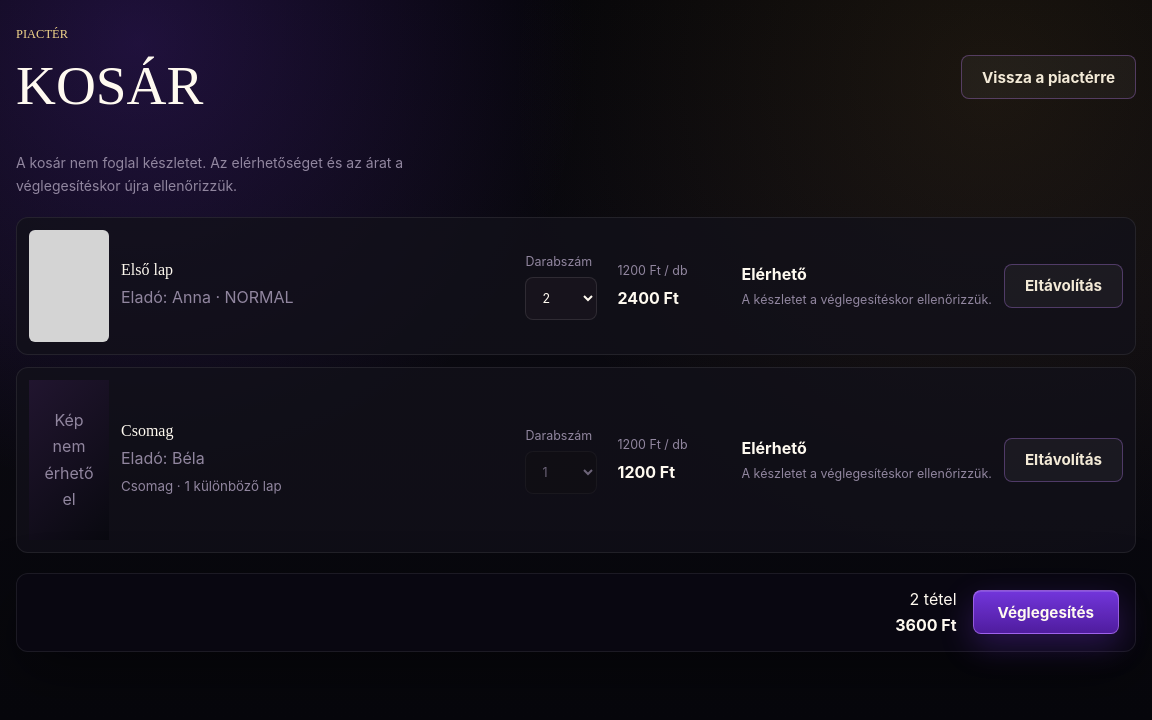
Test case: CartPage › jelzi, hogy nincs foglalás, és mutatja a csomagot valamint az eladónkénti előnézetet
The image size is (1152, 720).
Expected: the heading "Kosár" is shown, [16,57,203,115]
Expected: the text "A kosár nem foglal készletet" is shown, [16,154,403,194]
Click the button "Véglegesítés" at coordinates (1046, 612), box [972,590,1119,634]
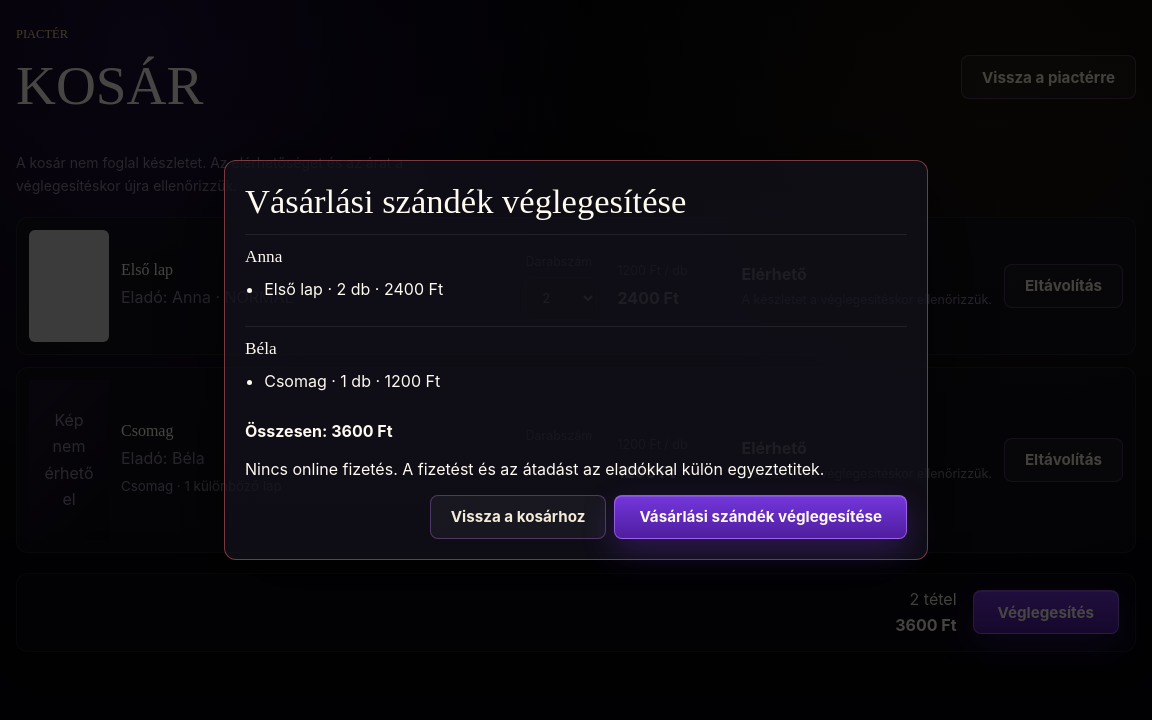
Result: the dialog shows "Anna" at [245,247,282,266]
Result: the dialog shows "Béla" at [245,339,277,358]
Result: the dialog shows "Nincs online fizetés" at [245,459,824,479]
